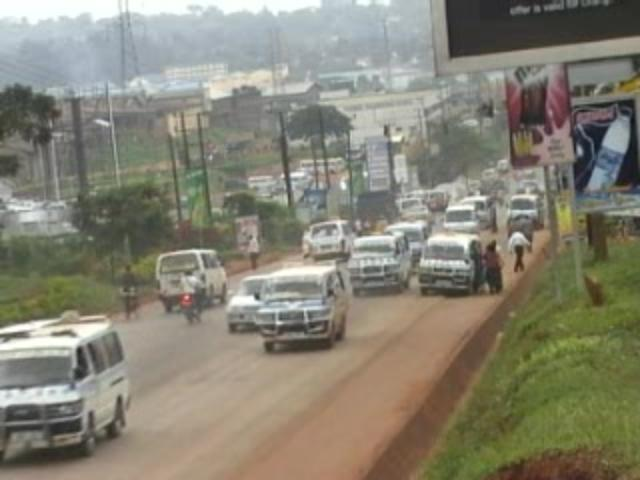motorcycle: (179, 266, 204, 324)
van: (0, 304, 128, 460), (265, 264, 344, 349), (156, 248, 226, 312), (347, 234, 410, 294), (418, 235, 473, 293), (226, 273, 278, 332), (303, 219, 356, 262), (383, 221, 428, 266), (441, 202, 482, 239), (507, 193, 543, 233), (396, 196, 427, 221)
